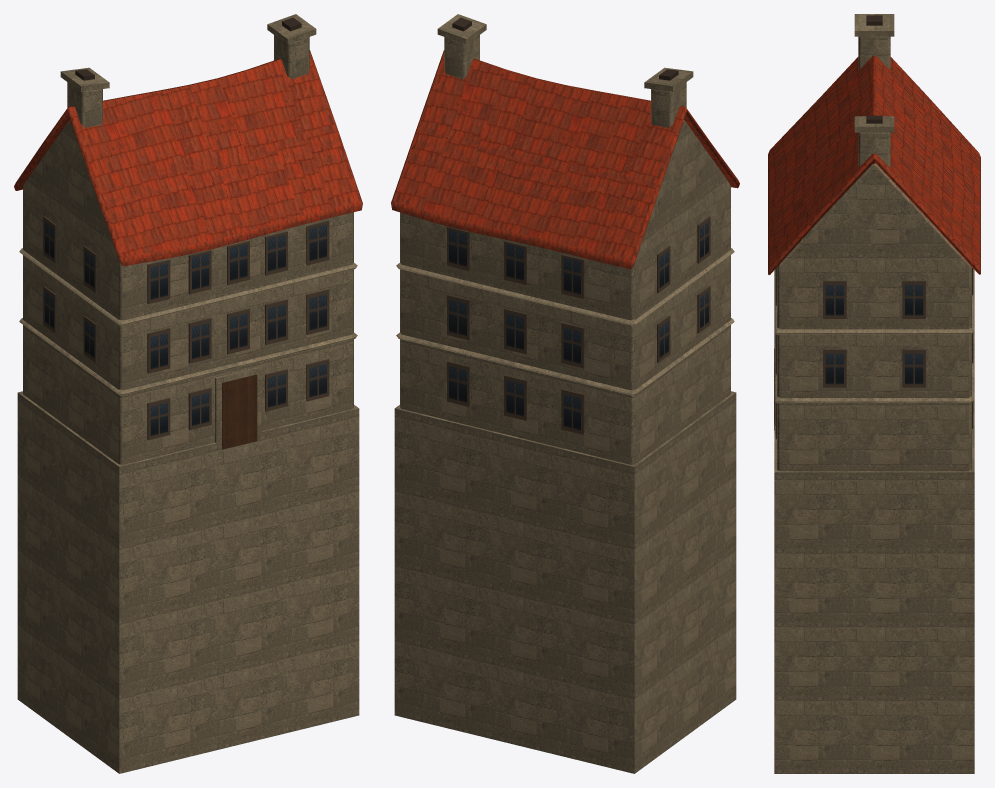
The model's file is townhouse_c.glb.
The picture shows the model from 3 angles, left to right: view 1: azimuth 30°, elevation 25°; view 2: azimuth 150°, elevation 25°; view 3: azimuth 270°, elevation 25°; orthographic projection.
Visible parts, largest first — view 1: townhouse_c_export; view 2: townhouse_c_export; view 3: townhouse_c_export.
Boxes of the visible parts, x1,y1,x2,y2 form: townhouse_c_export: (14,14,362,773); townhouse_c_export: (391,14,739,773); townhouse_c_export: (768,14,980,773).
Bounding box in the file's own units: 15 × 38.92 × 11.57.
Materials: 4 (4 with a texture image).
